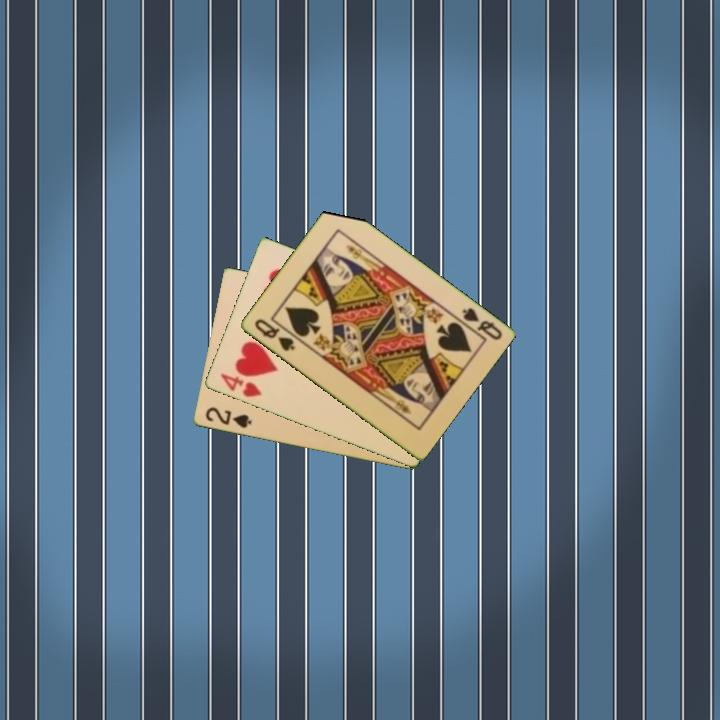2s: (201, 403, 254, 431)
4h: (216, 370, 264, 400)
Qs: (452, 304, 505, 343), (250, 315, 297, 354)
